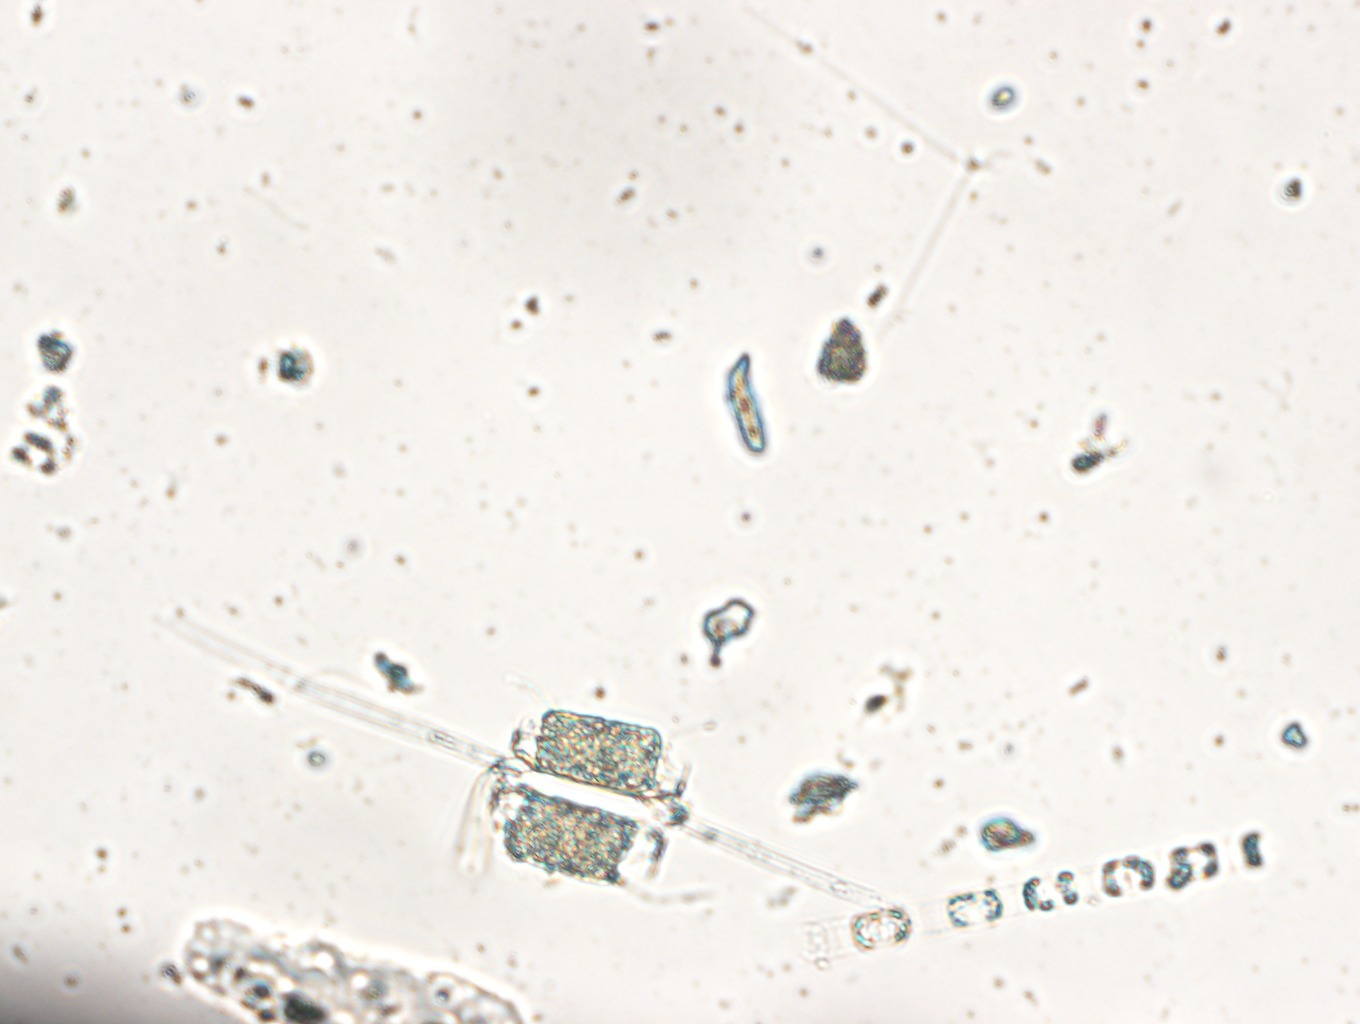chaetoceros: (464, 671, 697, 876)
skeletonema: (845, 833, 1268, 949)
